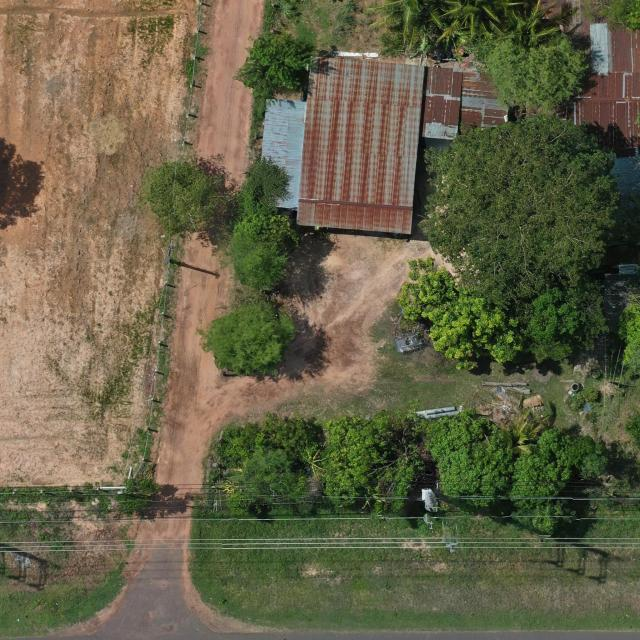tree: (417, 114, 614, 297), (397, 252, 525, 372), (324, 409, 426, 512), (217, 411, 317, 515), (510, 428, 608, 534), (424, 407, 514, 505), (486, 30, 588, 110), (195, 300, 295, 377), (526, 287, 610, 365), (146, 158, 226, 235), (232, 34, 313, 96), (232, 213, 294, 293), (434, 0, 525, 44), (364, 0, 444, 46), (489, 406, 554, 456), (502, 0, 561, 47)
